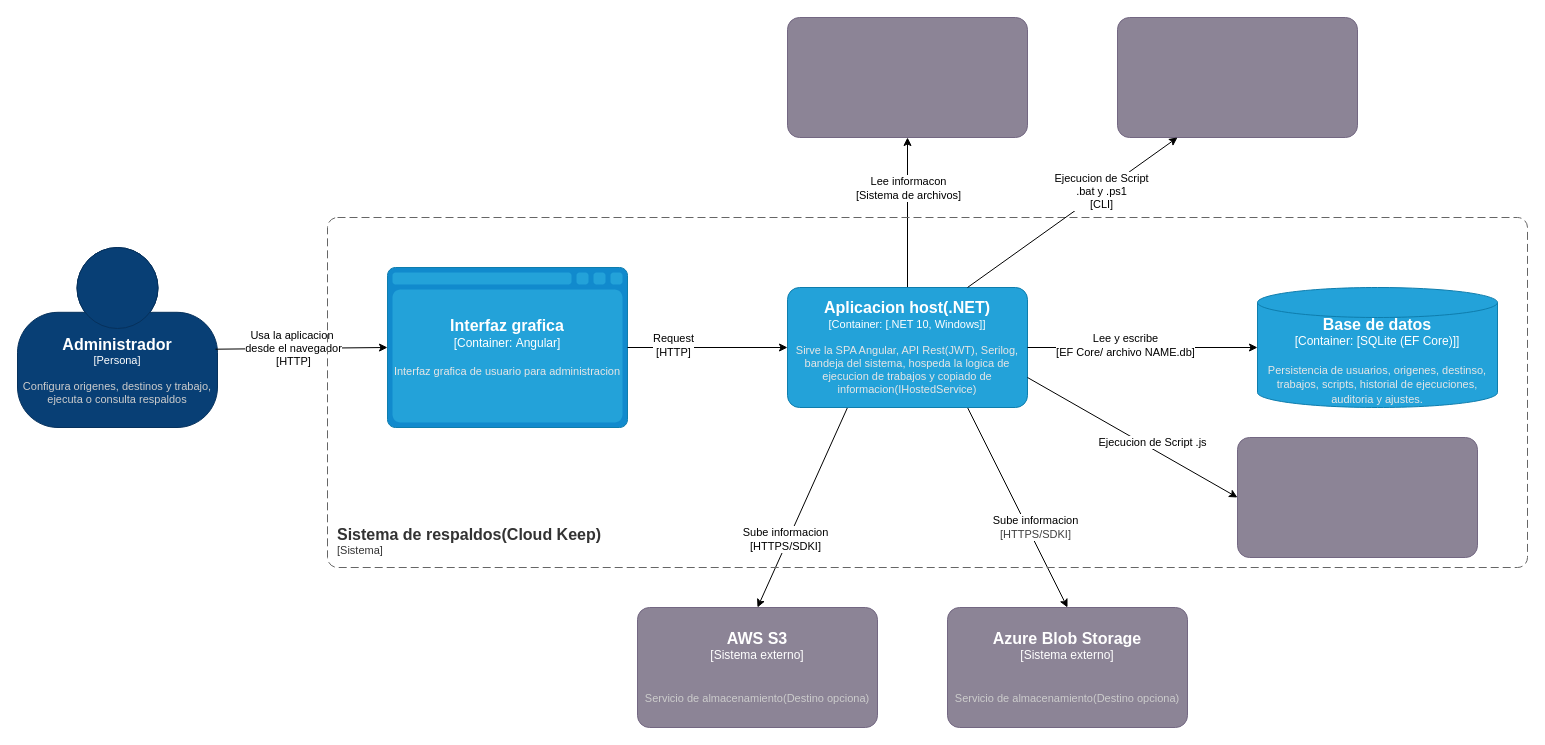
This 1545x745 diagram has some shape labels left out. The centre of each missing label's shape, as x and y in pixels:
Node js Runtime [Runtime] Runtime de node js para la ejecucion de scripts: point (1357, 497)
Sistema de archivos [Sistema externo] Informacion de origen a respaldar: point (907, 77)
Sistema Operativo [Consola del Sistema Operativo] Ejecucion de scripts: point (1237, 77)
